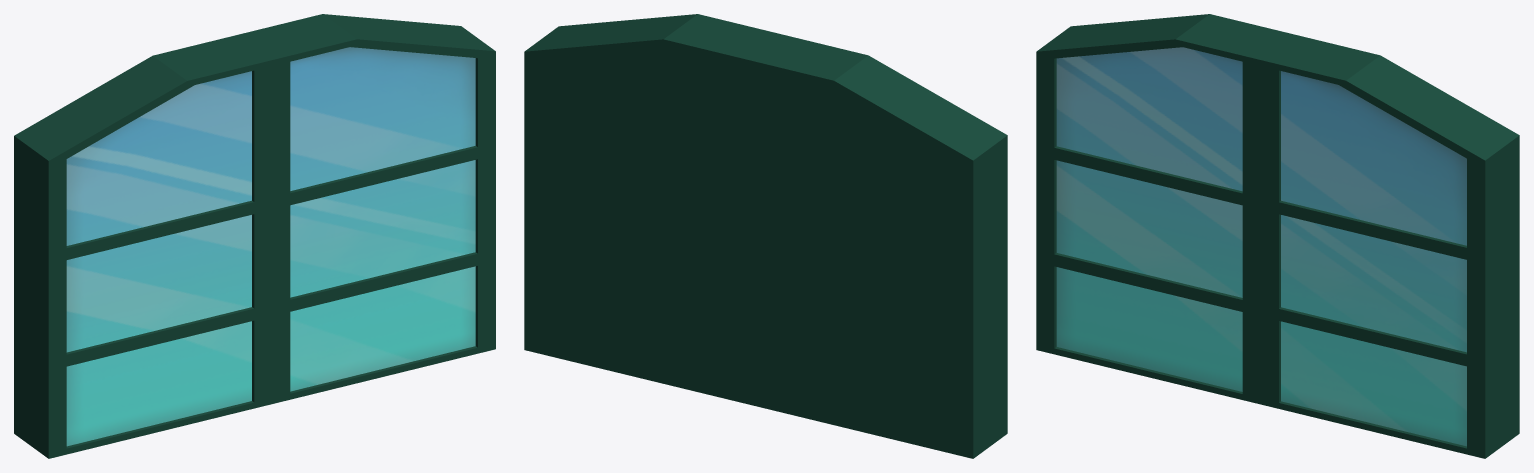
File: Ventana2.fbx
3 renders of one model, left to right at view 1: azimuth 30°, elevation 25°; view 2: azimuth 150°, elevation 25°; view 3: azimuth 330°, elevation 25°, orthographic.
Visible parts, largest first — view 1: ventana03; view 2: ventana03; view 3: ventana03.
Part boxes in pixels (x1,y1,x2,y2): ventana03: (14, 14, 495, 458); ventana03: (524, 14, 1007, 458); ventana03: (1036, 14, 1519, 458).
Size of the model in its own units: 2.52 by 1.85 by 0.3434.
